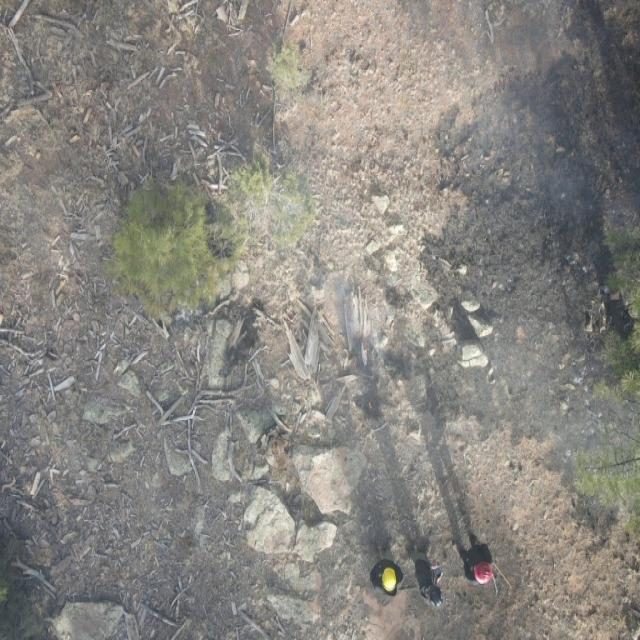fire: (348, 342, 370, 366), (364, 396, 378, 416)
smoke: (1, 0, 471, 640), (469, 0, 640, 519)
